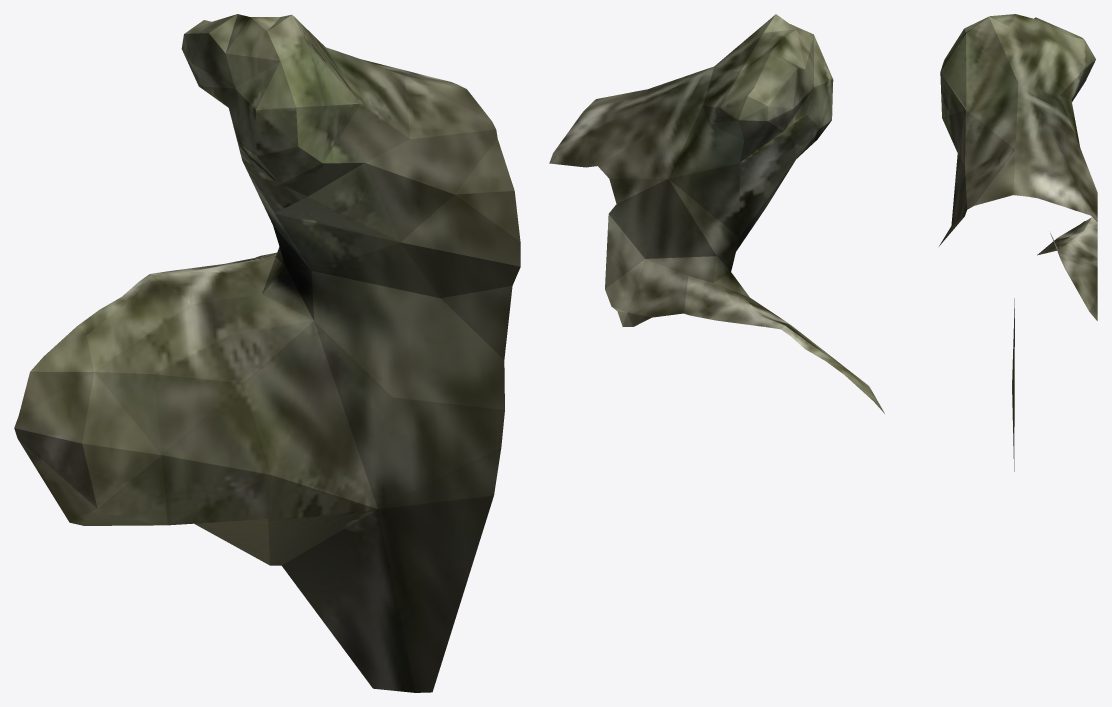
3 views of the same model, side by side, from view 1: azimuth 30°, elevation 25°; view 2: azimuth 150°, elevation 25°; view 3: azimuth 270°, elevation 25° (orthographic). The views are drawn at different scales.
Size of the model in its own units: 1.2 by 2.19 by 0.5571.
1 material, 1 textured.
